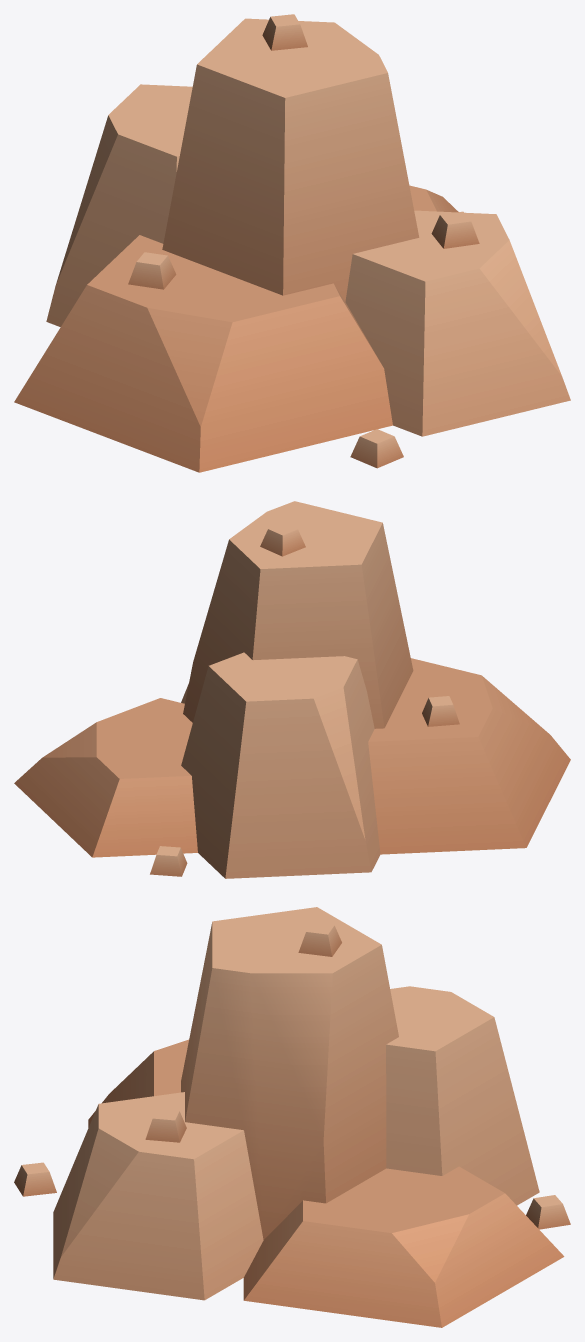
File: s-rock-sand-b.glb
3 views of the same model, one above another, from view 1: azimuth 30°, elevation 25°; view 2: azimuth 150°, elevation 25°; view 3: azimuth 270°, elevation 25° (orthographic). The views are drawn at different scales.
Parts seen in each view (by area): view 1: rock-sand-b; view 2: rock-sand-b; view 3: rock-sand-b.
Boxes of the visible parts, x1,y1,x2,y2 form: rock-sand-b: (14,14,570,472); rock-sand-b: (14,501,570,878); rock-sand-b: (14,907,570,1327).
Bounding box in the file's own units: 0.7991 × 0.4487 × 0.7895.
1 material, 1 textured.
